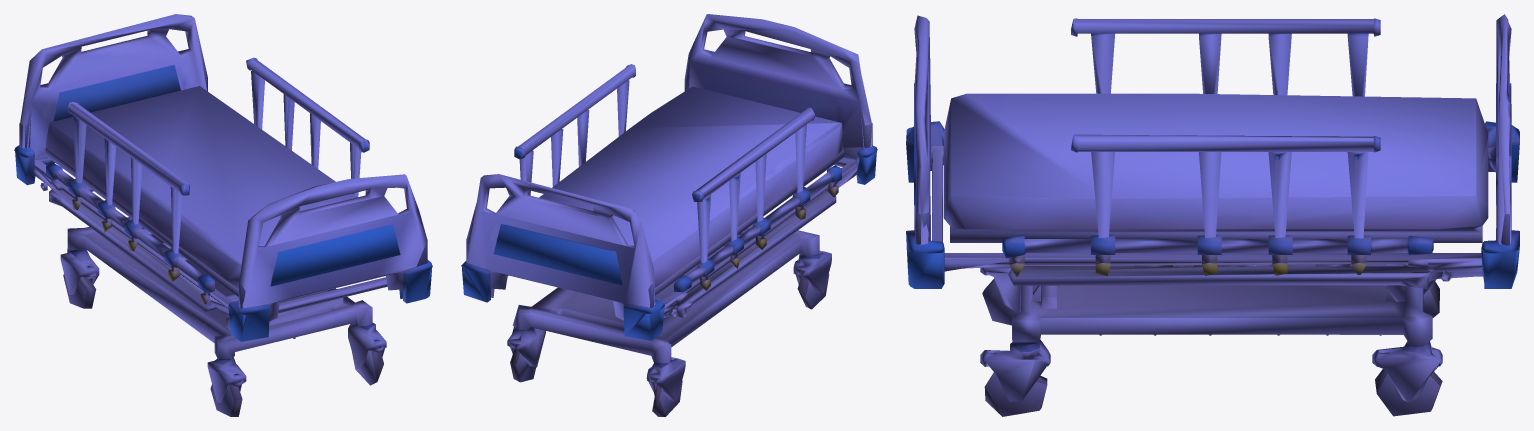
Rendered from model.progressive.glb.
3 renders of one model, left to right at view 1: azimuth 30°, elevation 25°; view 2: azimuth 150°, elevation 25°; view 3: azimuth 270°, elevation 25°, orthographic. The views are drawn at different scales.
Visible parts, largest first — view 1: material; view 2: material; view 3: material.
Boxes of the visible parts, box(x1,y1,x2,y2) form: material: box(14, 14, 432, 416); material: box(461, 14, 877, 416); material: box(906, 14, 1519, 416).
Bounding box in the file's own units: 0.9315 × 1.09 × 1.89.
1 material, 1 textured.
